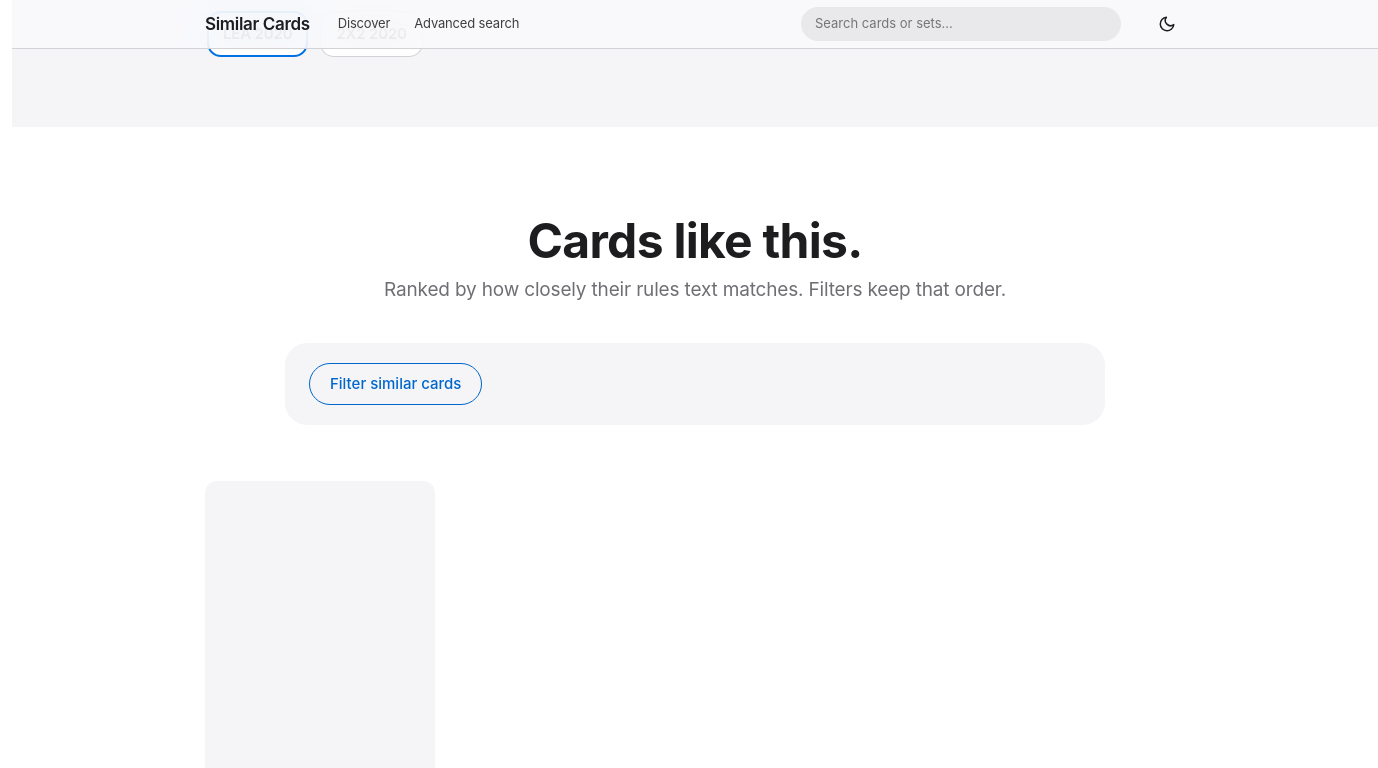
it: CardPage › builds a filter in the panel and applies it through the URL
(page scrolled)
Click the button "Filter similar cards": (396, 384) top-left (309, 363), bottom-right (482, 405)
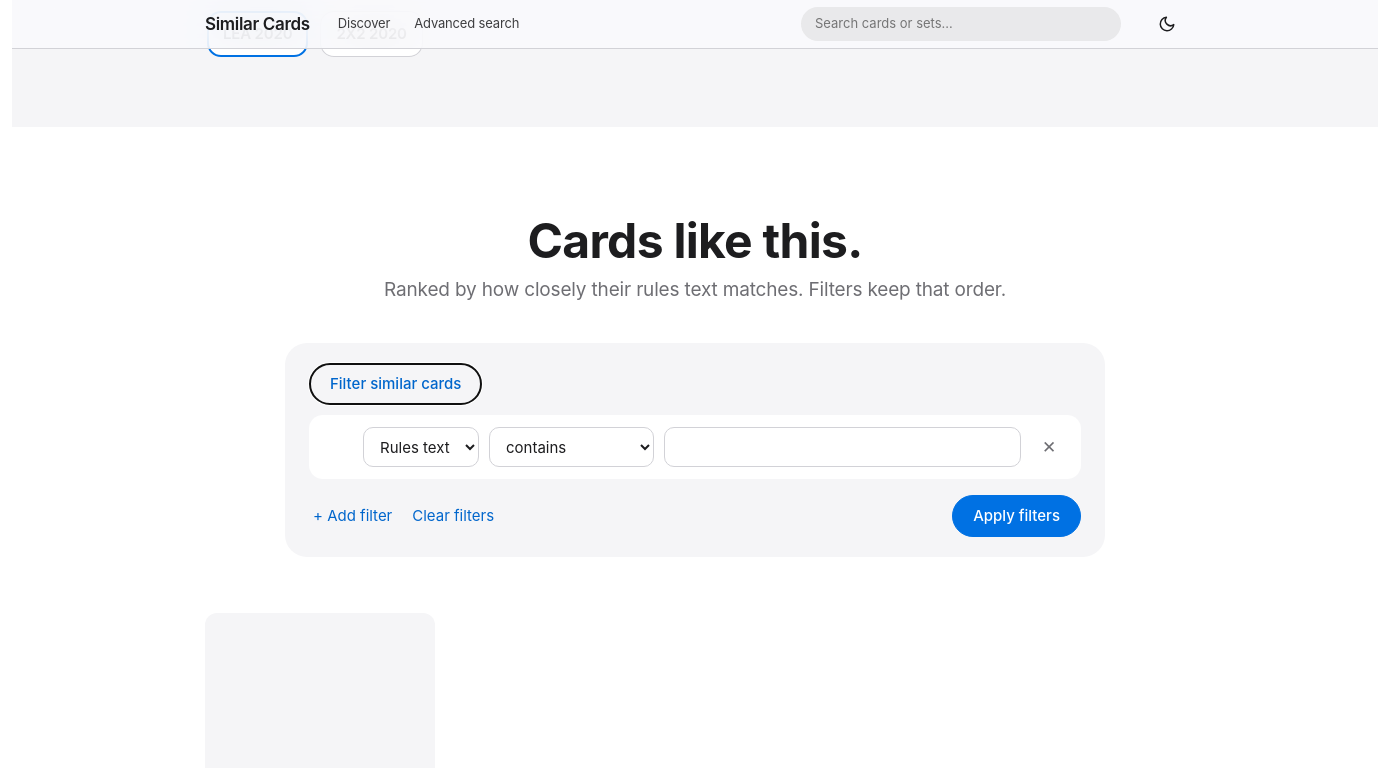
Select "Type" in the dropdown named "Field": (421, 447) top-left (363, 427), bottom-right (479, 467)
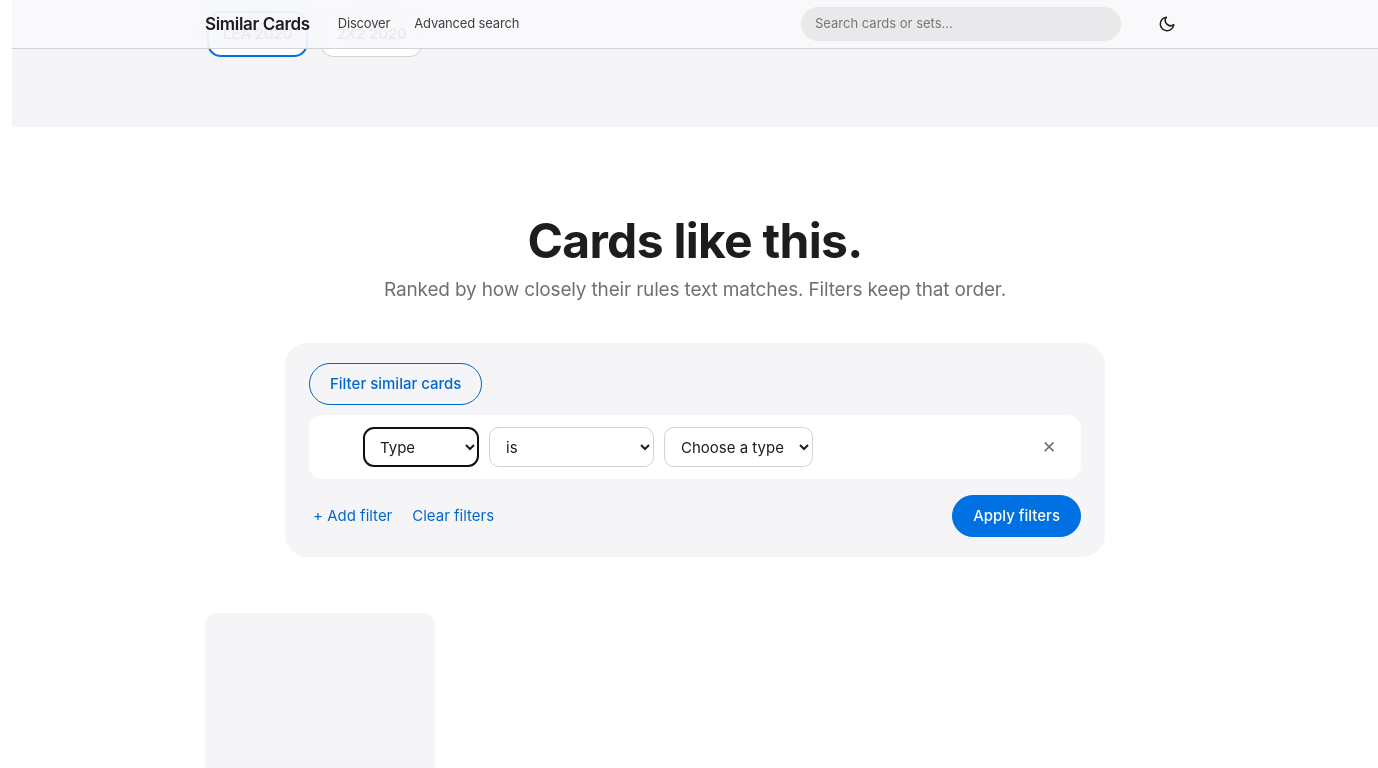
Select "contains" in the dropdown named "Condition": (572, 447) top-left (489, 427), bottom-right (654, 467)
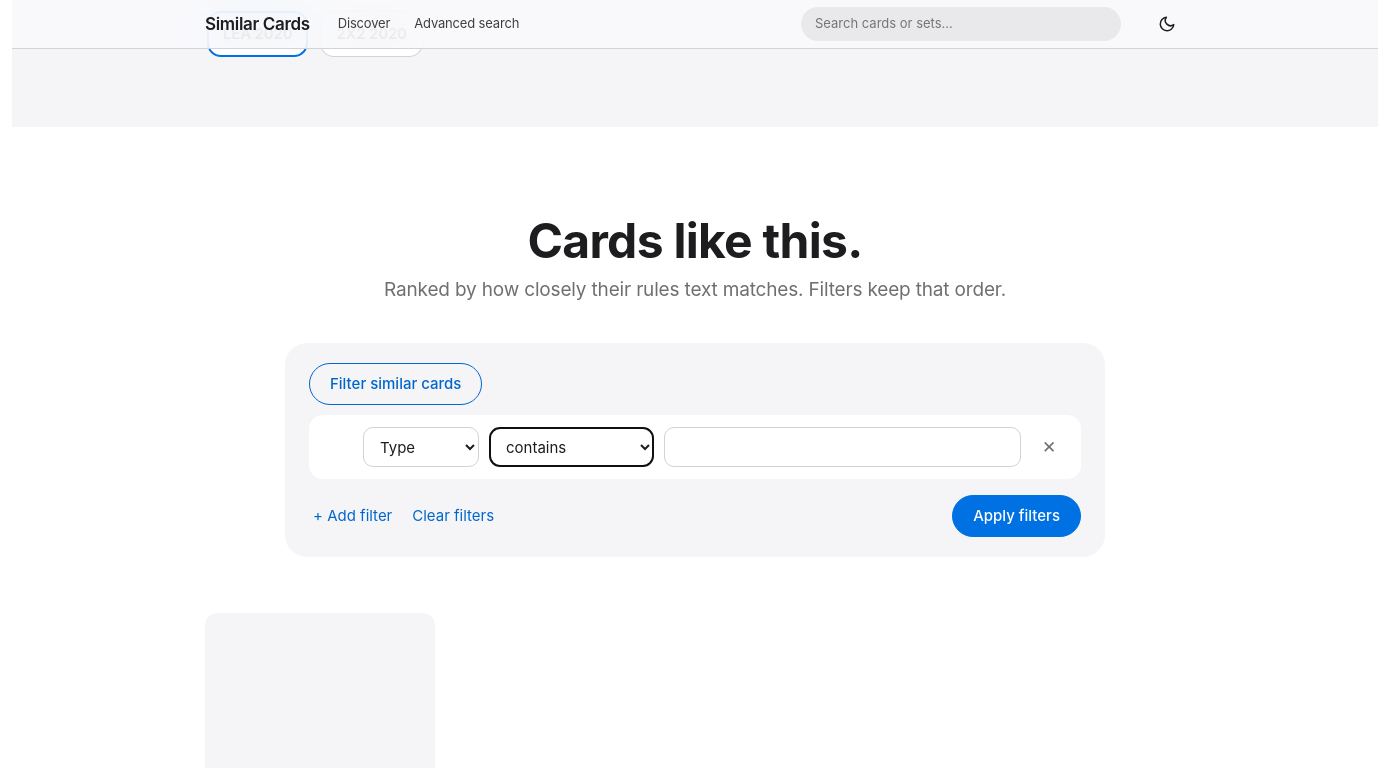
In the field named "Value": (842, 447) top-left (664, 427), bottom-right (1021, 467), type "Creature"
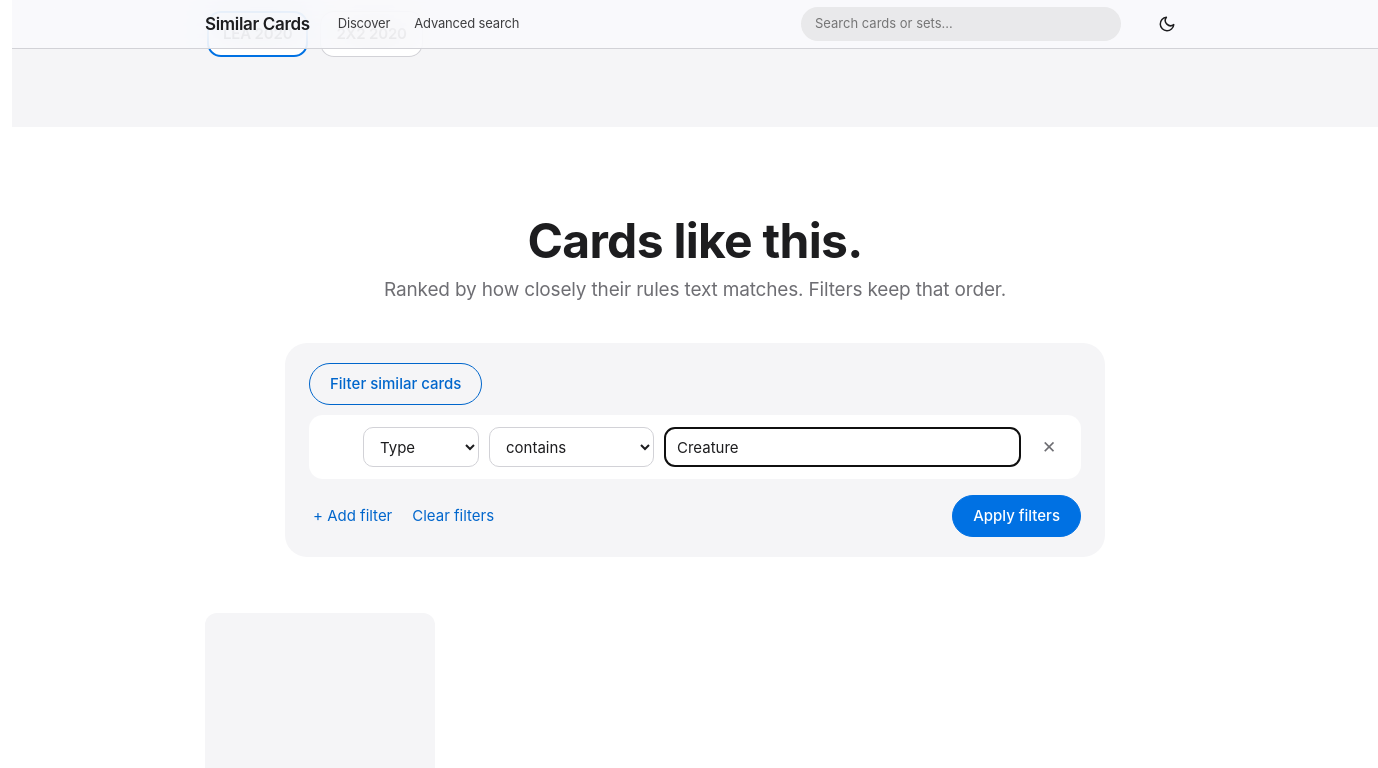
Click the button "Apply filters": (1017, 516) top-left (952, 495), bottom-right (1081, 537)
(page scrolled)
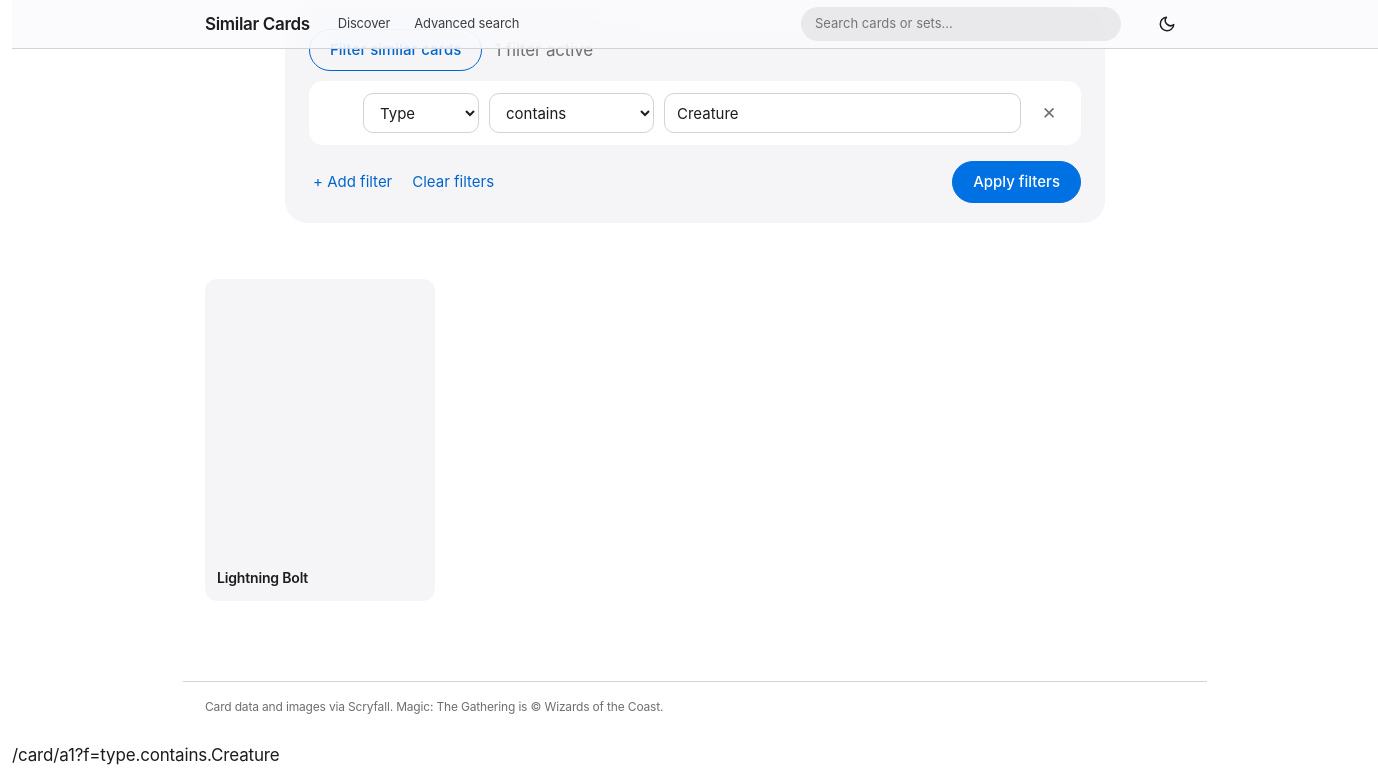
Now the text with test id "where" reads "/card/a1?f=type.contains.Creature", box top-left (12, 745), bottom-right (280, 765)
